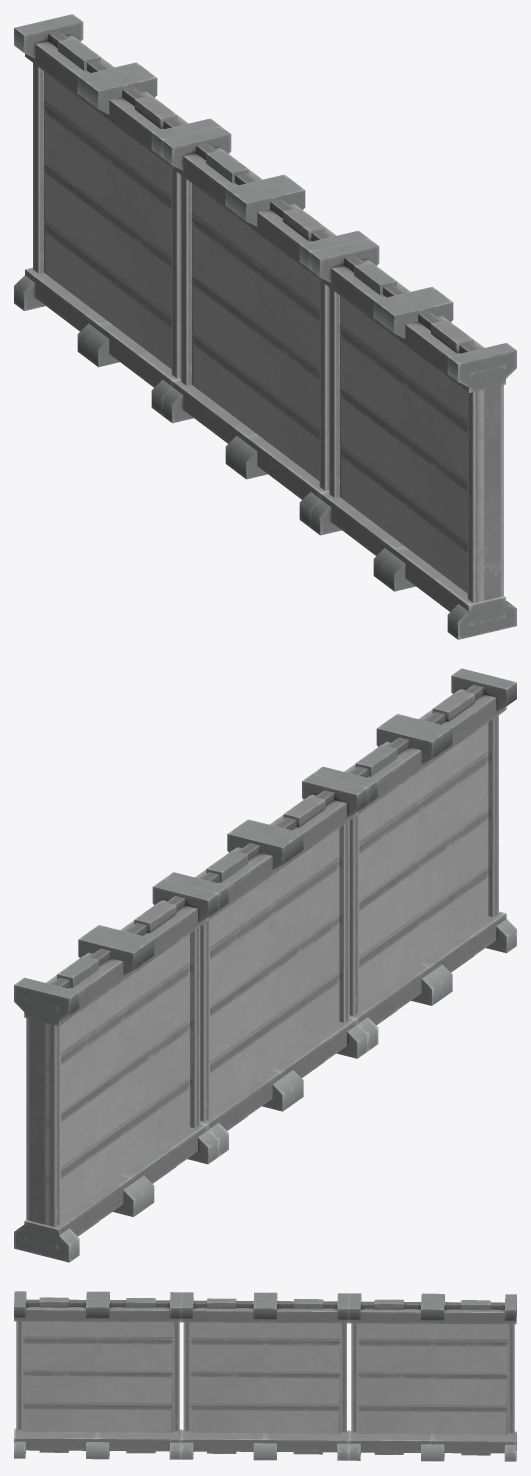
File: Pfb_JALB_WallPart2_Line__36.fbx
3 views of the same model, one above another, from view 1: azimuth 30°, elevation 25°; view 2: azimuth 150°, elevation 25°; view 3: azimuth 270°, elevation 25° (orthographic). The views are drawn at different scales.
Visible parts, largest first — view 1: MAT_Roof; view 2: MAT_Roof; view 3: MAT_Roof.
Part boxes in pixels (<box>): MAT_Roof: <box>14,14,516,639</box>; MAT_Roof: <box>14,668,516,1262</box>; MAT_Roof: <box>14,1291,516,1461</box>.
Size of the model in its own units: 1.07 by 4 by 12.01.
Materials: 1 (1 with a texture image).
